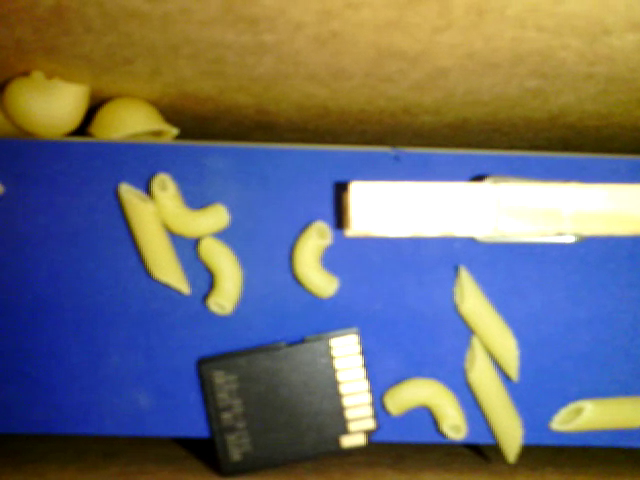elbow: (381, 373, 469, 441), (151, 174, 230, 237), (192, 230, 244, 315), (290, 220, 342, 300)
penne: (117, 178, 189, 295), (449, 262, 518, 377), (461, 334, 521, 463), (545, 394, 639, 433)
shell: (1, 65, 93, 138), (88, 93, 181, 140)
